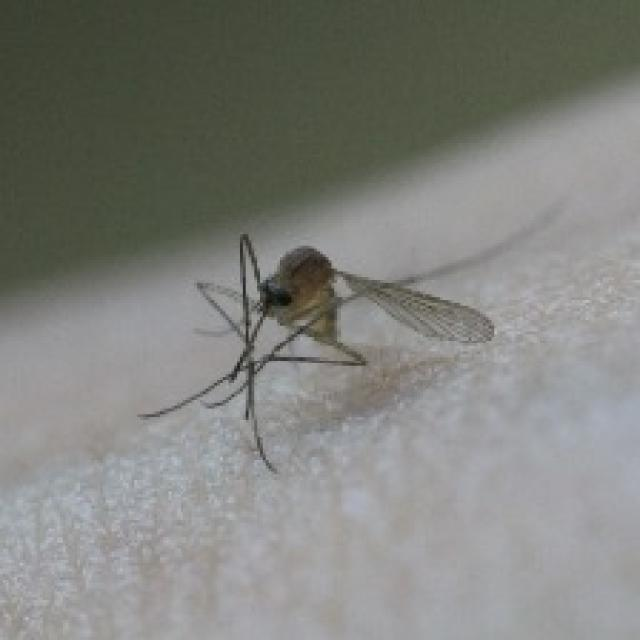culex: (62, 185, 564, 492)
